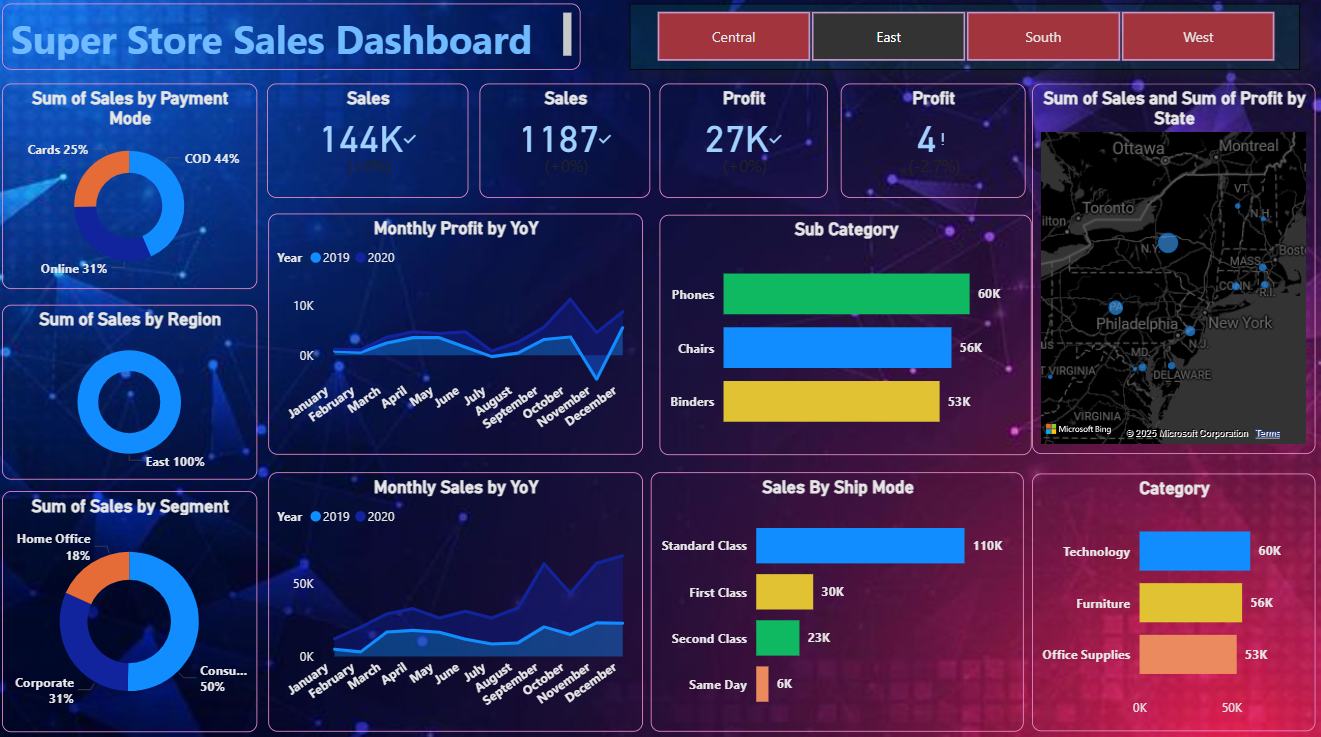

The page's visual inventory and layout, read from the dashboard file:
{"tool":"powerbi","page":{"name":"Page 1","canvas":[1280,720],"ordinal":0},"visuals":[{"type":"kpi","title":"Sales ","fields":{"TrendLine":["SuperStore_Sales_Dataset.Category"],"Indicator":["Sum(SuperStore_Sales_Dataset.Sales)"],"Goal":["Sum(SuperStore_Sales_Dataset.Sales)"]},"box":[261,85,194,110],"z":0},{"type":"clusteredBarChart","title":"Sub Category","fields":{"Category":["SuperStore_Sales_Dataset.Sub-Category"],"Y":["Sum(SuperStore_Sales_Dataset.Sales)"]},"box":[639.5,211.3,359.5,231.9],"z":1000},{"type":"clusteredBarChart","title":"Sales By Ship Mode","fields":{"Category":["SuperStore_Sales_Dataset.Ship Mode"],"Y":["Sum(SuperStore_Sales_Dataset.Sales)"]},"box":[631.2,460,360,250],"z":2000},{"type":"stackedAreaChart","title":"Monthly Sales by YoY","fields":{"Y":["Sum(SuperStore_Sales_Dataset.Sales)"],"Category":["SuperStore_Sales_Dataset.Order Date.Variation.Date Hierarchy.Month","SuperStore_Sales_Dataset.Order Date.Variation.Date Hierarchy.Day"],"Series":["SuperStore_Sales_Dataset.Order Date.Variation.Date Hierarchy.Year"]},"box":[261.4,460,361.4,250],"z":3000},{"type":"stackedAreaChart","title":"Monthly Profit by YoY","fields":{"Category":["SuperStore_Sales_Dataset.Order Date.Variation.Date Hierarchy.Month","SuperStore_Sales_Dataset.Order Date.Variation.Date Hierarchy.Day"],"Series":["SuperStore_Sales_Dataset.Order Date.Variation.Date Hierarchy.Year"],"Y":["Sum(SuperStore_Sales_Dataset.Profit)"]},"box":[261.4,210,361.4,232.9],"z":4000},{"type":"azureMap","fields":{"Category":["SuperStore_Sales_Dataset.State"],"Size":["Sum(SuperStore_Sales_Dataset.Sales)"]},"box":[998.8,85,273.8,357.5],"z":5000},{"type":"donutChart","fields":{"Category":["SuperStore_Sales_Dataset.Payment Mode"],"Y":["Sum(SuperStore_Sales_Dataset.Sales)"]},"box":[5,85,246,198],"z":6000},{"type":"donutChart","fields":{"Category":["SuperStore_Sales_Dataset.Segment"],"Y":["Sum(SuperStore_Sales_Dataset.Sales)"]},"box":[5,478,246,233],"z":7000},{"type":"slicer","fields":{"Values":["SuperStore_Sales_Dataset.Region"]},"box":[610,7.5,647.5,63.8],"z":8000},{"type":"textbox","box":[5,7.5,558.8,63.8],"z":9000},{"type":"kpi","title":"Sales","fields":{"TrendLine":["SuperStore_Sales_Dataset.Category"],"Goal":["Sum(SuperStore_Sales_Dataset.Quantity)"],"Indicator":["Sum(SuperStore_Sales_Dataset.Quantity)"]},"box":[466,85,165,110],"z":10000},{"type":"kpi","title":"Profit","fields":{"TrendLine":["SuperStore_Sales_Dataset.Category"],"Goal":["Sum(SuperStore_Sales_Dataset.Profit)"],"Indicator":["Sum(SuperStore_Sales_Dataset.Profit)"]},"box":[640,85,162,110],"z":11000},{"type":"kpi","title":"Profit","fields":{"TrendLine":["SuperStore_Sales_Dataset.Category"],"Indicator":["Avg(SuperStore_Sales_Dataset.Quantity)"],"Goal":["Avg(SuperStore_Sales_Dataset.AvgDelivery)"]},"box":[814,85,178,110],"z":12000},{"type":"donutChart","fields":{"Category":["SuperStore_Sales_Dataset.Region"],"Y":["Sum(SuperStore_Sales_Dataset.Sales)"]},"box":[5,298,246,169],"z":13000},{"type":"clusteredBarChart","title":"Category","fields":{"Category":["SuperStore_Sales_Dataset.Category","SuperStore_Sales_Dataset.Ship Mode"],"Y":["Sum(SuperStore_Sales_Dataset.Sales)"]},"box":[998.8,461.2,273.8,248.8],"z":14000}]}

Visuals, with their boxes in screenshot pixels (x1, y1, x2, y2), scaled from the page's 1280x720 canvas onto the 1321x737 screenshot:
"Sales " kpi: l=269, t=87, r=470, b=200
"Sub Category" clusteredBarChart: l=660, t=216, r=1031, b=454
"Sales By Ship Mode" clusteredBarChart: l=651, t=471, r=1023, b=727
"Monthly Sales by YoY" stackedAreaChart: l=270, t=471, r=643, b=727
"Monthly Profit by YoY" stackedAreaChart: l=270, t=215, r=643, b=453
azureMap - SuperStore_Sales_Dataset.State x Sum(SuperStore_Sales_Dataset.Sales): l=1031, t=87, r=1313, b=453
donutChart - SuperStore_Sales_Dataset.Payment Mode x Sum(SuperStore_Sales_Dataset.Sales): l=5, t=87, r=259, b=290
donutChart - SuperStore_Sales_Dataset.Segment x Sum(SuperStore_Sales_Dataset.Sales): l=5, t=489, r=259, b=728
slicer - SuperStore_Sales_Dataset.Region: l=630, t=8, r=1298, b=73
textbox: l=5, t=8, r=582, b=73
"Sales" kpi: l=481, t=87, r=651, b=200
"Profit" kpi: l=660, t=87, r=828, b=200
"Profit" kpi: l=840, t=87, r=1024, b=200
donutChart - SuperStore_Sales_Dataset.Region x Sum(SuperStore_Sales_Dataset.Sales): l=5, t=305, r=259, b=478
"Category" clusteredBarChart: l=1031, t=472, r=1313, b=727
